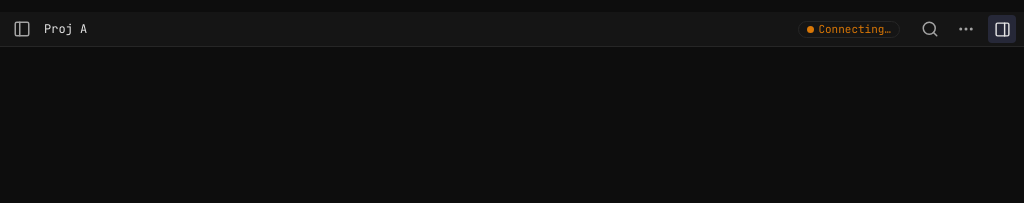
TopBar - canvas mode pane toggles › leaves the split-orientation and terminal-dock buttons enabled in classic mode
Step 1. Click the button named "More options" → (966, 28), box [952,14,980,42]
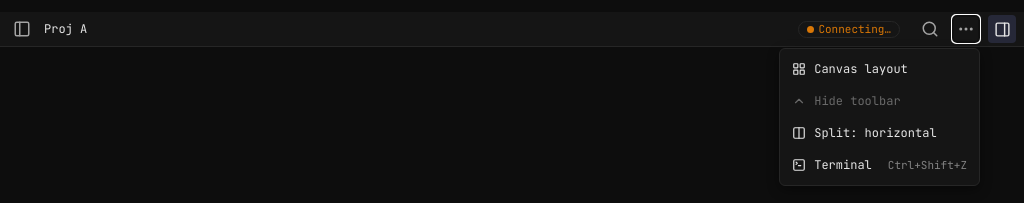
Result: the menu item "Split: horizontal" is enabled at [780,116,979,148]
Result: the menu item "Terminal Ctrl+Shift+Z" is enabled at [780,148,979,180]
